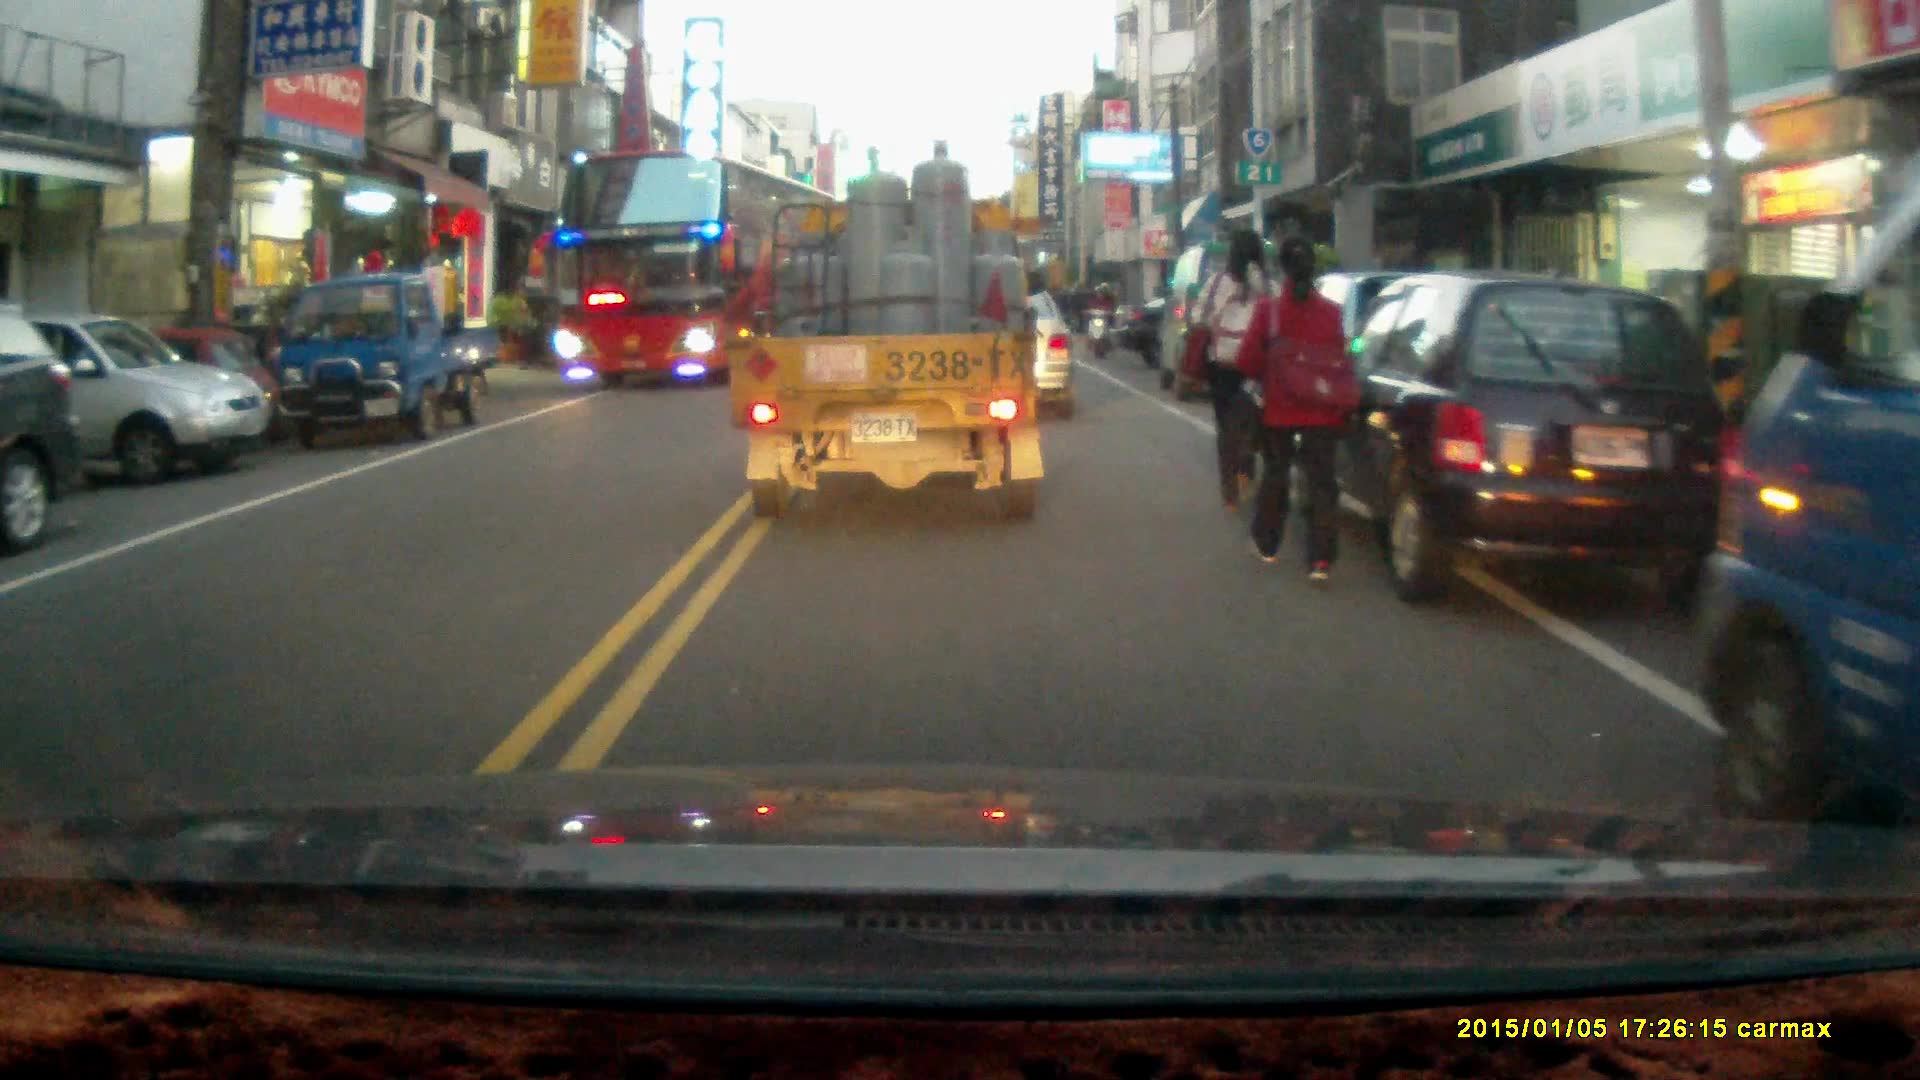pedestrian: (1234, 231, 1355, 590), (1194, 229, 1295, 522)
rider: (1083, 279, 1121, 361)
vehicle: (1306, 273, 1746, 617), (733, 142, 1053, 530), (551, 146, 842, 395), (1, 310, 270, 490), (273, 275, 503, 439), (1, 302, 88, 555)
